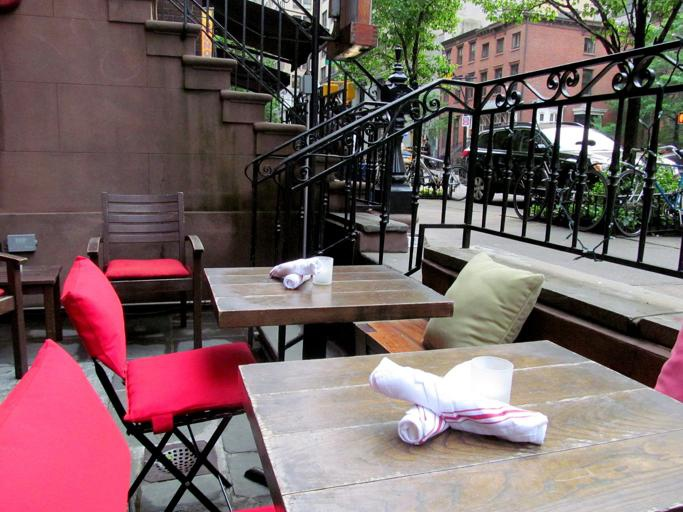non-vehicle: (512, 137, 609, 230), (610, 145, 683, 237), (403, 144, 469, 201)
